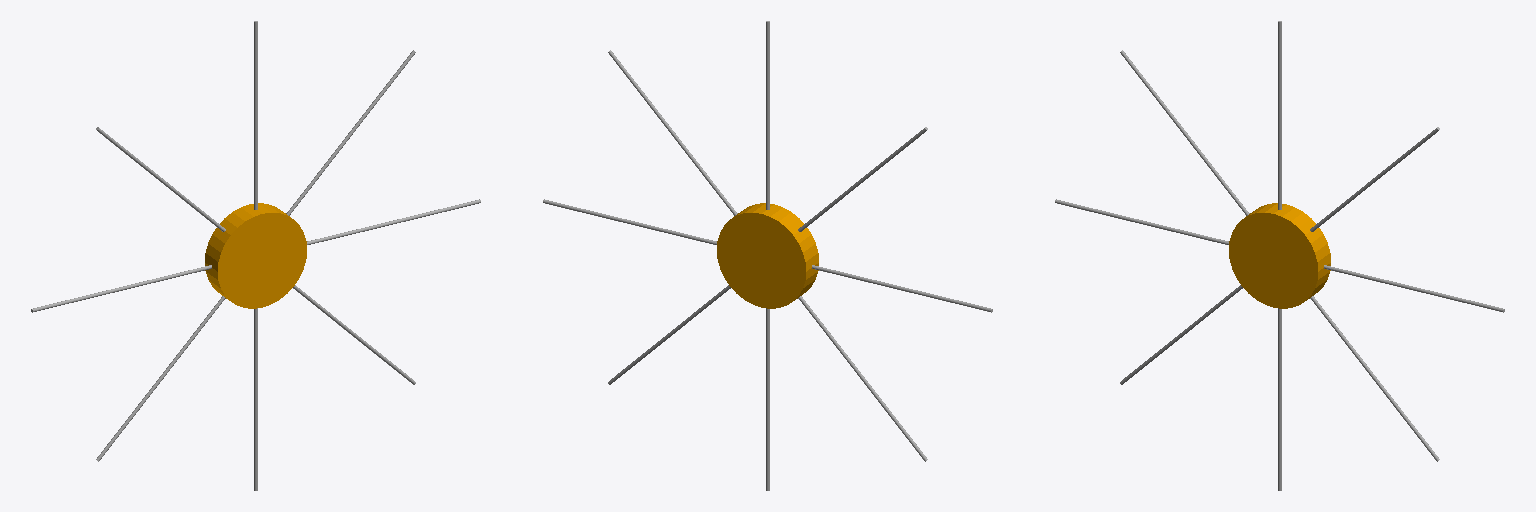
The robot description file, URDF, robot "RimlessWheel":
<?xml version="1.0" ?>
<!-- =================================================================================== -->
<!-- |    This document was autogenerated by xacro from RimlessWheel.xacro             | -->
<!-- |    EDITING THIS FILE BY HAND IS NOT RECOMMENDED                                 | -->
<!-- =================================================================================== -->
<robot name="RimlessWheel" xmlns:xacro="http://ros.org/wiki/xacro">
  <link name="hub">
    <inertial>
      <mass value="1"/>
      <inertia ixx="0" ixy="0" ixz="0" iyy="0" iyz="0" izz="0"/>
    </inertial>
    <visual>
      <origin rpy="1.5708 0 0"/>
      <geometry>
        <cylinder length=".1" radius=".2"/>
      </geometry>
    </visual>
  </link>
  <link name="spoke1">
    <visual>
      <origin rpy="0 0 0" xyz="0 0 -0.5"/>
      <geometry>
        <cylinder length="1" radius="0.0075"/>
      </geometry>
      <material>
        <color rgba=".7 .7 .7 1"/>
      </material>
    </visual>
    <collision>
      <origin rpy="0 0 0" xyz="0 0 1"/>
      <geometry>
        <sphere radius="0"/>
      </geometry>
    </collision>
  </link>
  <joint name="spoke1_weld" type="fixed">
    <origin rpy="0 0.0 0" xyz="0 0 0"/>
    <parent link="hub"/>
    <child link="spoke1"/>
  </joint>
  <link name="spoke2">
    <visual>
      <origin rpy="0 0 0" xyz="0 0 -0.5"/>
      <geometry>
        <cylinder length="1" radius="0.0075"/>
      </geometry>
      <material>
        <color rgba=".7 .7 .7 1"/>
      </material>
    </visual>
    <collision>
      <origin rpy="0 0 0" xyz="0 0 1"/>
      <geometry>
        <sphere radius="0"/>
      </geometry>
    </collision>
  </link>
  <joint name="spoke2_weld" type="fixed">
    <origin rpy="0 0.7854 0" xyz="0 0 0"/>
    <parent link="hub"/>
    <child link="spoke2"/>
  </joint>
  <link name="spoke3">
    <visual>
      <origin rpy="0 0 0" xyz="0 0 -0.5"/>
      <geometry>
        <cylinder length="1" radius="0.0075"/>
      </geometry>
      <material>
        <color rgba=".7 .7 .7 1"/>
      </material>
    </visual>
    <collision>
      <origin rpy="0 0 0" xyz="0 0 1"/>
      <geometry>
        <sphere radius="0"/>
      </geometry>
    </collision>
  </link>
  <joint name="spoke3_weld" type="fixed">
    <origin rpy="0 1.5708 0" xyz="0 0 0"/>
    <parent link="hub"/>
    <child link="spoke3"/>
  </joint>
  <link name="spoke4">
    <visual>
      <origin rpy="0 0 0" xyz="0 0 -0.5"/>
      <geometry>
        <cylinder length="1" radius="0.0075"/>
      </geometry>
      <material>
        <color rgba=".7 .7 .7 1"/>
      </material>
    </visual>
    <collision>
      <origin rpy="0 0 0" xyz="0 0 1"/>
      <geometry>
        <sphere radius="0"/>
      </geometry>
    </collision>
  </link>
  <joint name="spoke4_weld" type="fixed">
    <origin rpy="0 2.3562 0" xyz="0 0 0"/>
    <parent link="hub"/>
    <child link="spoke4"/>
  </joint>
  <link name="spoke5">
    <visual>
      <origin rpy="0 0 0" xyz="0 0 -0.5"/>
      <geometry>
        <cylinder length="1" radius="0.0075"/>
      </geometry>
      <material>
        <color rgba=".7 .7 .7 1"/>
      </material>
    </visual>
    <collision>
      <origin rpy="0 0 0" xyz="0 0 1"/>
      <geometry>
        <sphere radius="0"/>
      </geometry>
    </collision>
  </link>
  <joint name="spoke5_weld" type="fixed">
    <origin rpy="0 3.1416 0" xyz="0 0 0"/>
    <parent link="hub"/>
    <child link="spoke5"/>
  </joint>
  <link name="spoke6">
    <visual>
      <origin rpy="0 0 0" xyz="0 0 -0.5"/>
      <geometry>
        <cylinder length="1" radius="0.0075"/>
      </geometry>
      <material>
        <color rgba=".7 .7 .7 1"/>
      </material>
    </visual>
    <collision>
      <origin rpy="0 0 0" xyz="0 0 1"/>
      <geometry>
        <sphere radius="0"/>
      </geometry>
    </collision>
  </link>
  <joint name="spoke6_weld" type="fixed">
    <origin rpy="0 3.927 0" xyz="0 0 0"/>
    <parent link="hub"/>
    <child link="spoke6"/>
  </joint>
  <link name="spoke7">
    <visual>
      <origin rpy="0 0 0" xyz="0 0 -0.5"/>
      <geometry>
        <cylinder length="1" radius="0.0075"/>
      </geometry>
      <material>
        <color rgba=".7 .7 .7 1"/>
      </material>
    </visual>
    <collision>
      <origin rpy="0 0 0" xyz="0 0 1"/>
      <geometry>
        <sphere radius="0"/>
      </geometry>
    </collision>
  </link>
  <joint name="spoke7_weld" type="fixed">
    <origin rpy="0 4.7124 0" xyz="0 0 0"/>
    <parent link="hub"/>
    <child link="spoke7"/>
  </joint>
  <link name="spoke8">
    <visual>
      <origin rpy="0 0 0" xyz="0 0 -0.5"/>
      <geometry>
        <cylinder length="1" radius="0.0075"/>
      </geometry>
      <material>
        <color rgba=".7 .7 .7 1"/>
      </material>
    </visual>
    <collision>
      <origin rpy="0 0 0" xyz="0 0 1"/>
      <geometry>
        <sphere radius="0"/>
      </geometry>
    </collision>
  </link>
  <joint name="spoke8_weld" type="fixed">
    <origin rpy="0 5.4978 0" xyz="0 0 0"/>
    <parent link="hub"/>
    <child link="spoke8"/>
  </joint>
</robot>

--- Facts derived from the render (not from the file) ---
Views: 3 orthographic renders of the robot side by side, from view 1: azimuth 30°, elevation 25°; view 2: azimuth 150°, elevation 25°; view 3: azimuth 330°, elevation 25°.
Model RimlessWheel with 9 links and 8 joints (8 fixed), rooted at hub, posed every joint at zero.
Visible links, largest first — view 1: hub, spoke6, spoke2, spoke5, spoke1, spoke3, spoke7, spoke4, spoke8; view 2: hub, spoke6, spoke2, spoke5, spoke1, spoke3, spoke7, spoke4, spoke8; view 3: hub, spoke4, spoke8, spoke5, spoke1, spoke7, spoke3, spoke6, spoke2.
Link boxes in pixels (x1,y1,x2,y2): hub: (205, 203, 306, 308); spoke6: (286, 50, 415, 215); spoke2: (96, 296, 225, 461); spoke5: (254, 21, 257, 209); spoke1: (254, 308, 257, 490); spoke3: (31, 265, 211, 312); spoke7: (307, 199, 480, 244); spoke4: (96, 127, 225, 231); spoke8: (293, 285, 415, 384); hub: (717, 203, 818, 308); spoke6: (608, 50, 737, 215); spoke2: (798, 296, 927, 461); spoke5: (766, 21, 769, 209); spoke1: (766, 308, 769, 490); spoke3: (812, 265, 992, 312); spoke7: (543, 199, 716, 244); spoke4: (798, 127, 927, 231); spoke8: (608, 285, 730, 384); hub: (1229, 203, 1330, 308); spoke4: (1120, 50, 1249, 215); spoke8: (1310, 296, 1439, 461); spoke5: (1278, 21, 1281, 209); spoke1: (1278, 308, 1281, 490); spoke7: (1324, 265, 1504, 312); spoke3: (1055, 199, 1228, 244); spoke6: (1310, 127, 1439, 231); spoke2: (1120, 285, 1242, 384).
Size in the robot's own frame: 2 by 0.1 by 2 metres.
Geometry: primitives only (box / cylinder / sphere), no mesh files.